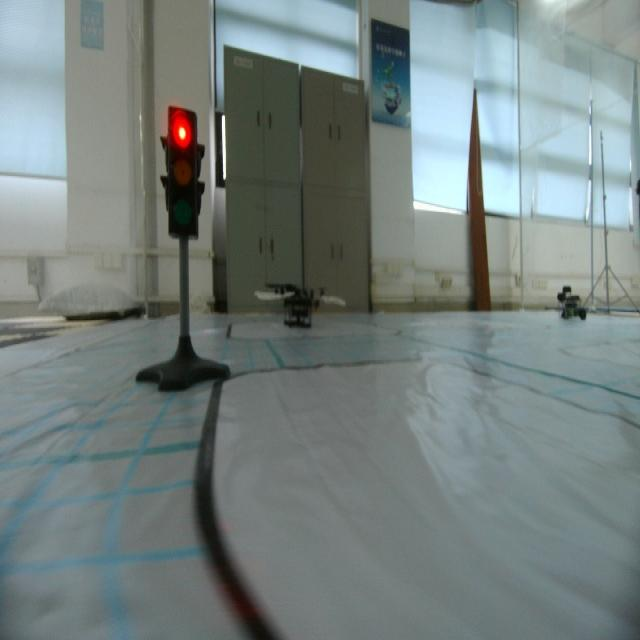red: (158, 97, 210, 245)
